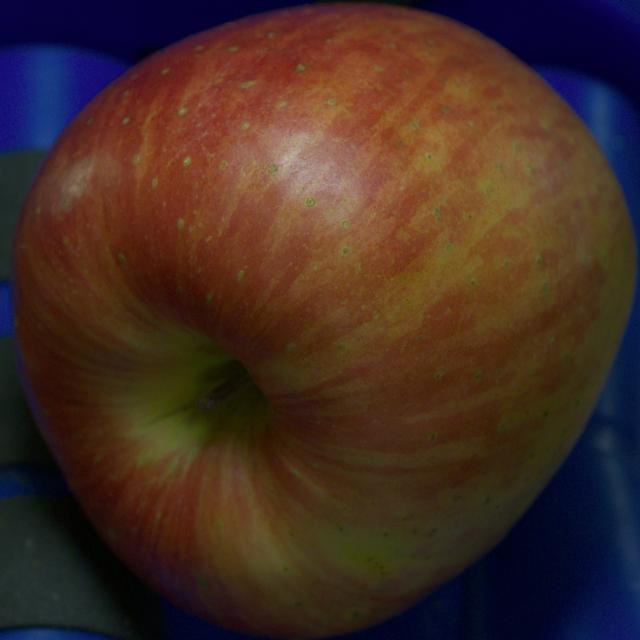apple: (11, 4, 636, 639)
